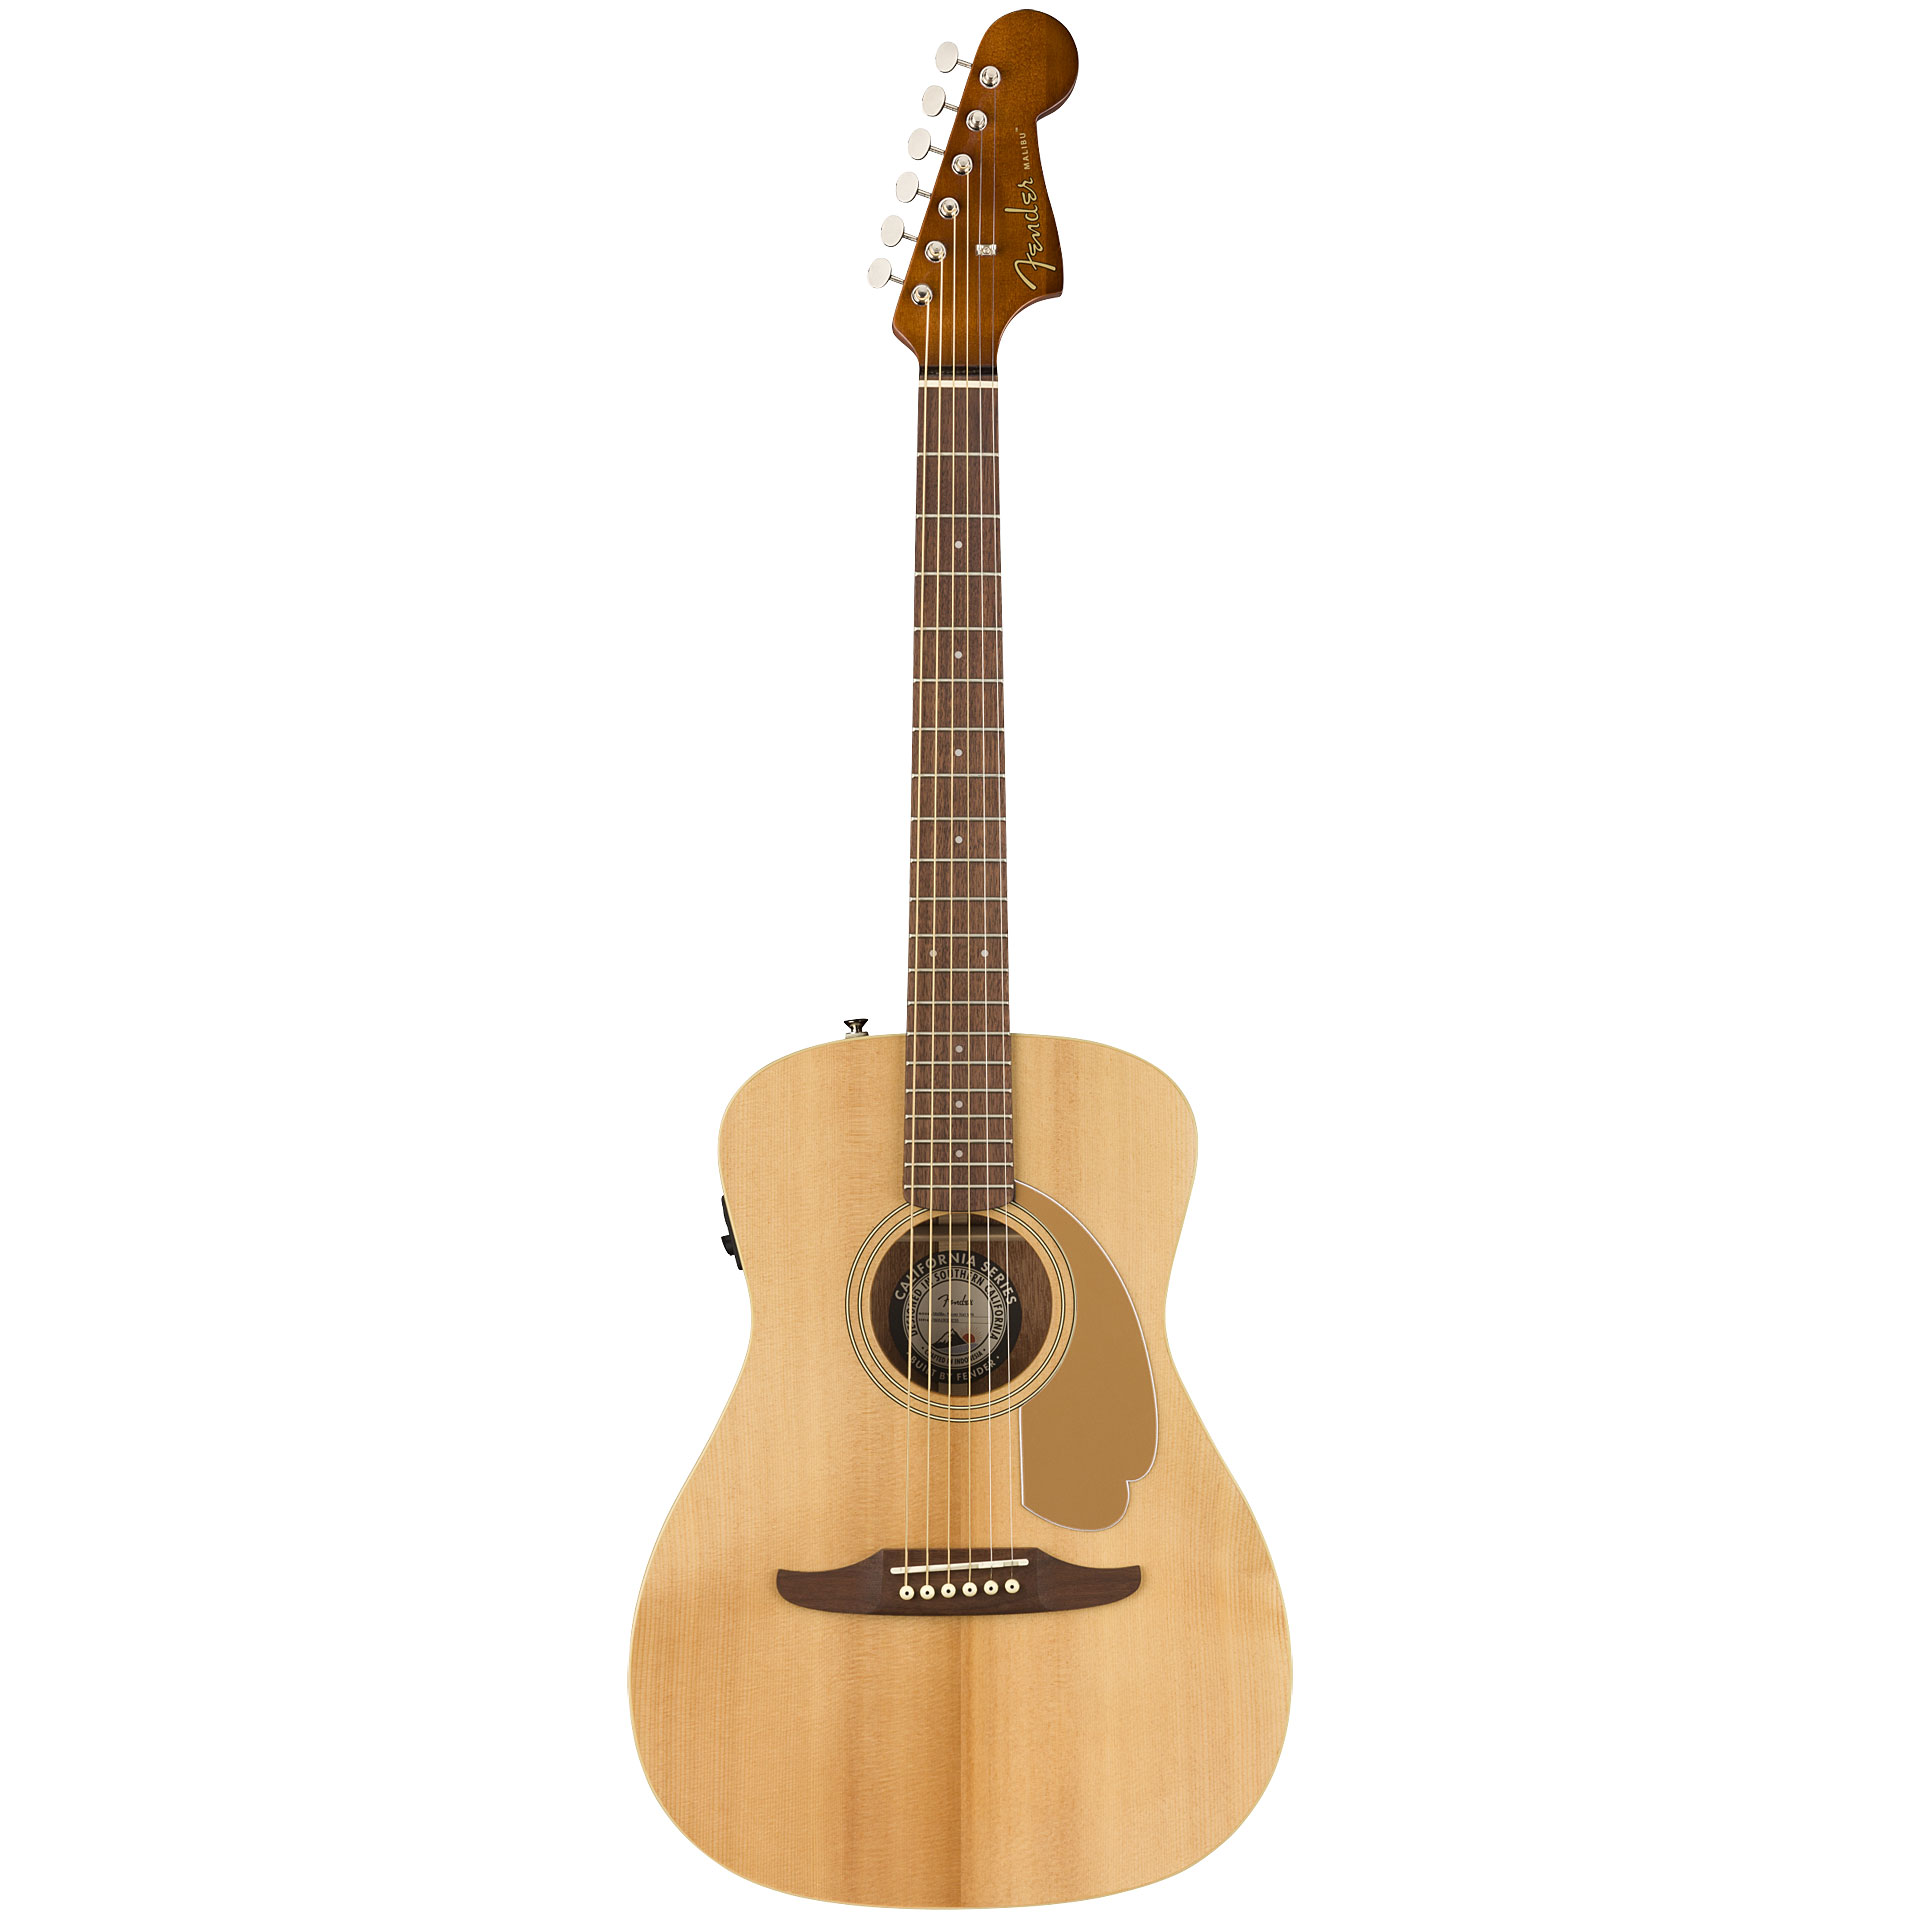guitar: (612, 2, 1315, 1901)
